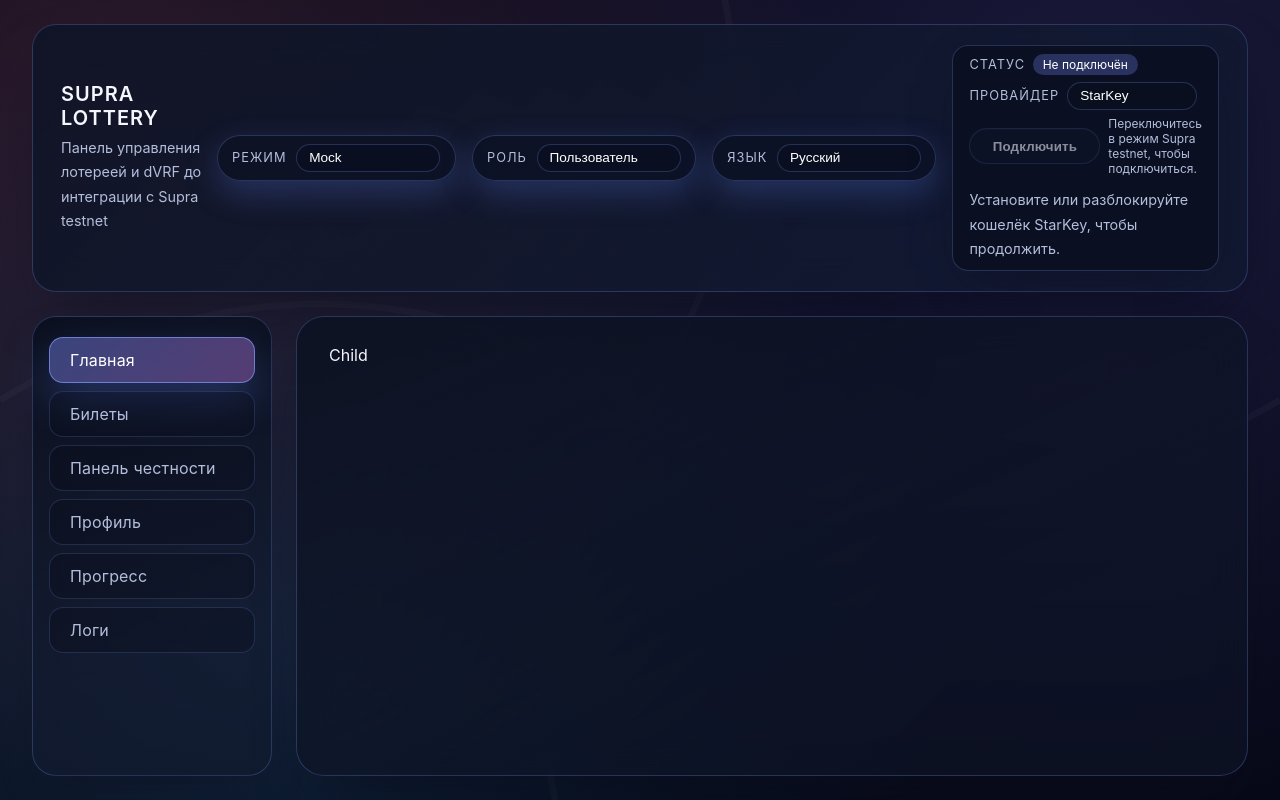
ShellLayout › показывает ссылку Администрирование после смены роли
The width and height of the screenshot is (1280, 800).
Select "Администратор" in the dropdown labelled "Роль" at (608, 158), box [536,144,680,172]
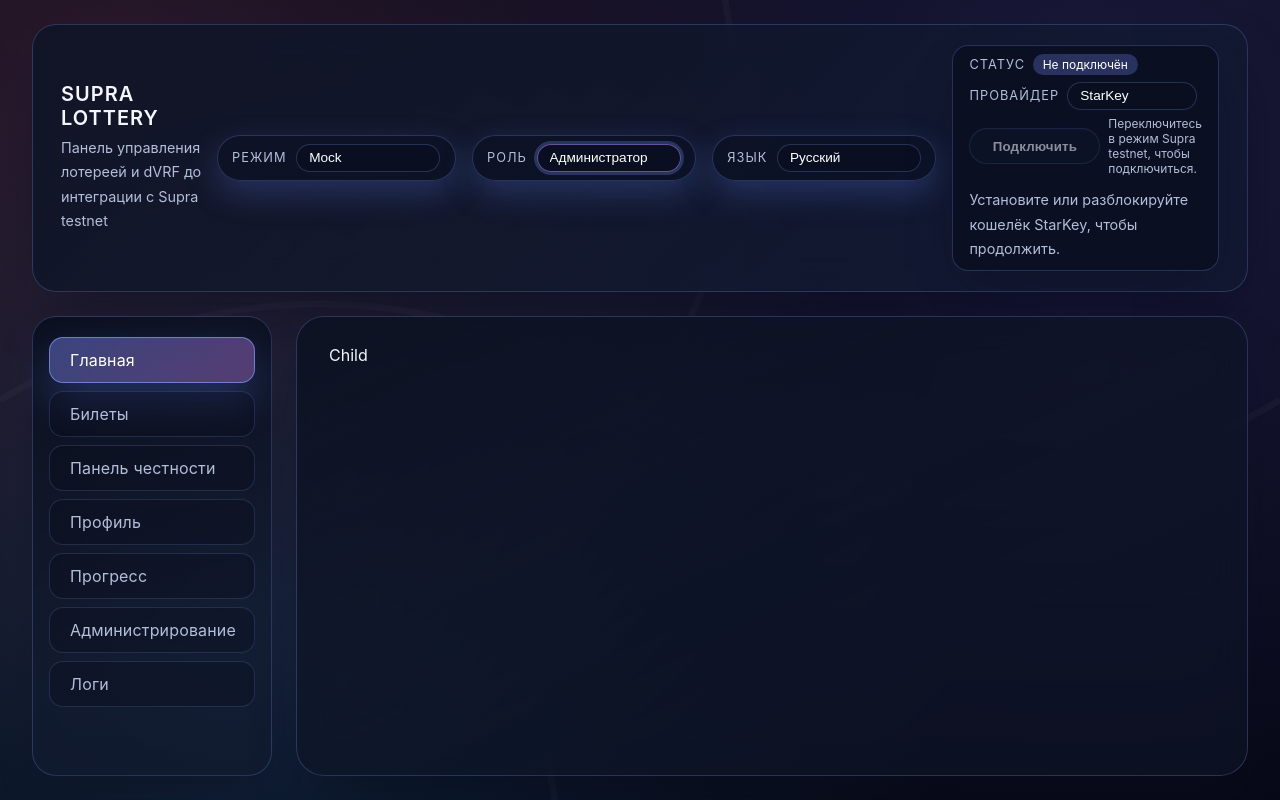
Result: the link "Администрирование" is shown at [49,607,255,653]
